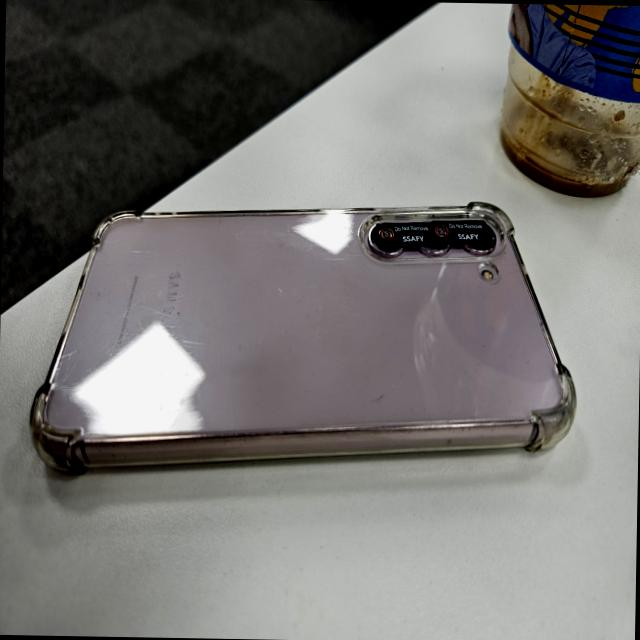phone: (28, 190, 580, 483)
sticker: (430, 220, 490, 247), (377, 222, 431, 246)
